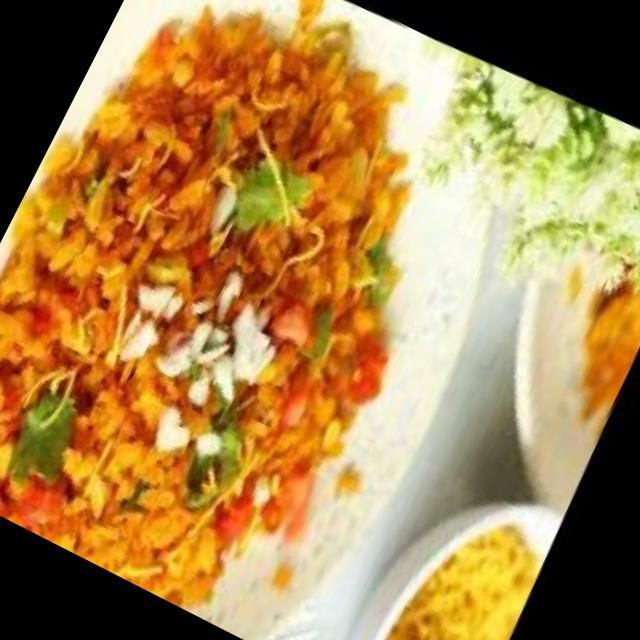poha: (0, 0, 549, 640)
